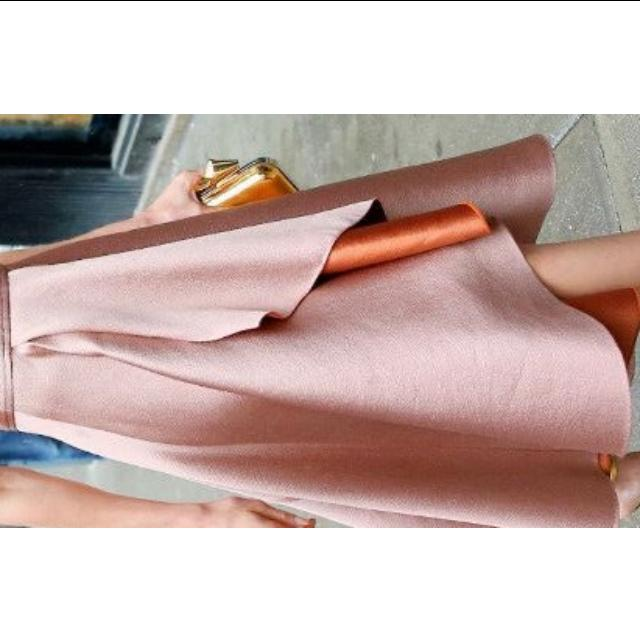silk: (1, 243, 620, 471)
